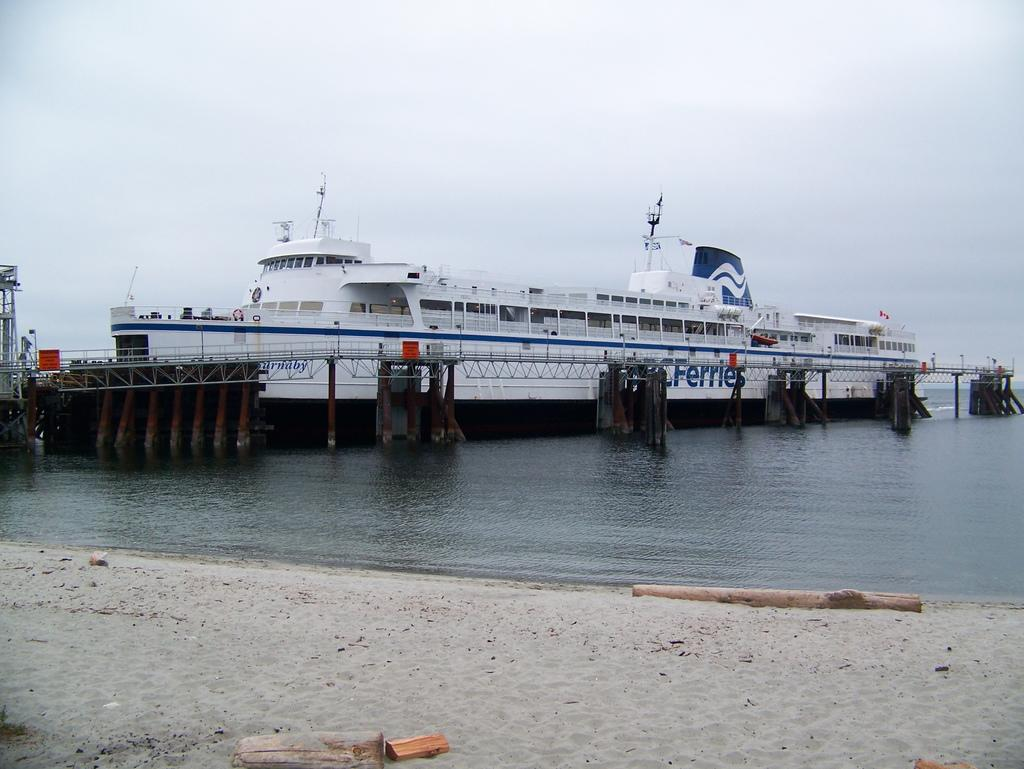PassengerShip: (114, 176, 920, 426)
